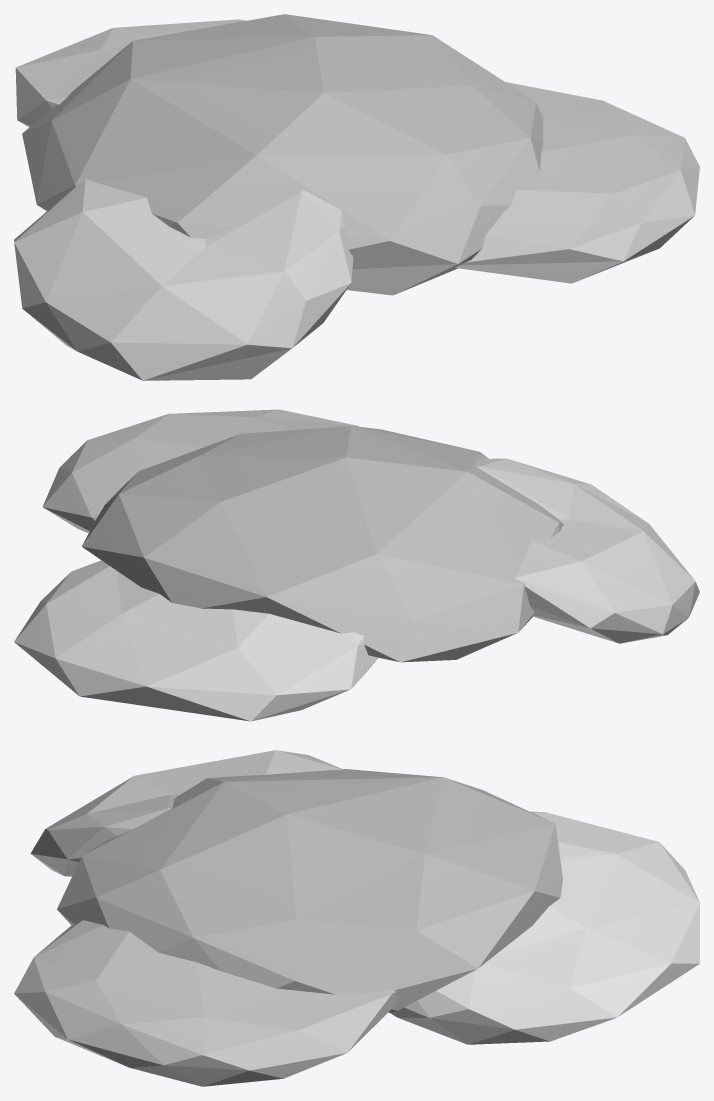
The model's file is Cloud.glb.
3 views of the same model, one above another, from view 1: azimuth 30°, elevation 25°; view 2: azimuth 150°, elevation 25°; view 3: azimuth 270°, elevation 25° (orthographic). The views are drawn at different scales.
Visible parts, largest first — view 1: Cloud; view 2: Cloud; view 3: Cloud.
Boxes of the visible parts, <box> form: Cloud: <box>14,14,699,380</box>; Cloud: <box>14,409,699,721</box>; Cloud: <box>14,750,699,1086</box>.
Size of the model in its own units: 25.71 by 5.84 by 24.28.
1 material, 1 textured.
